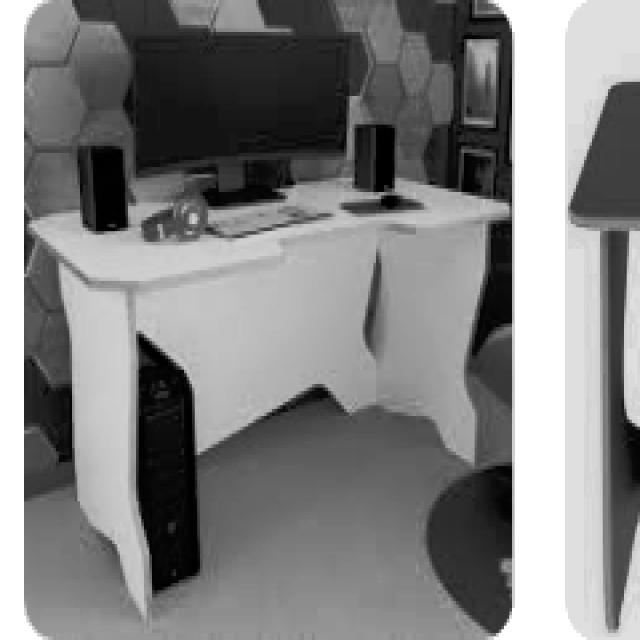table: (24, 167, 509, 626)
